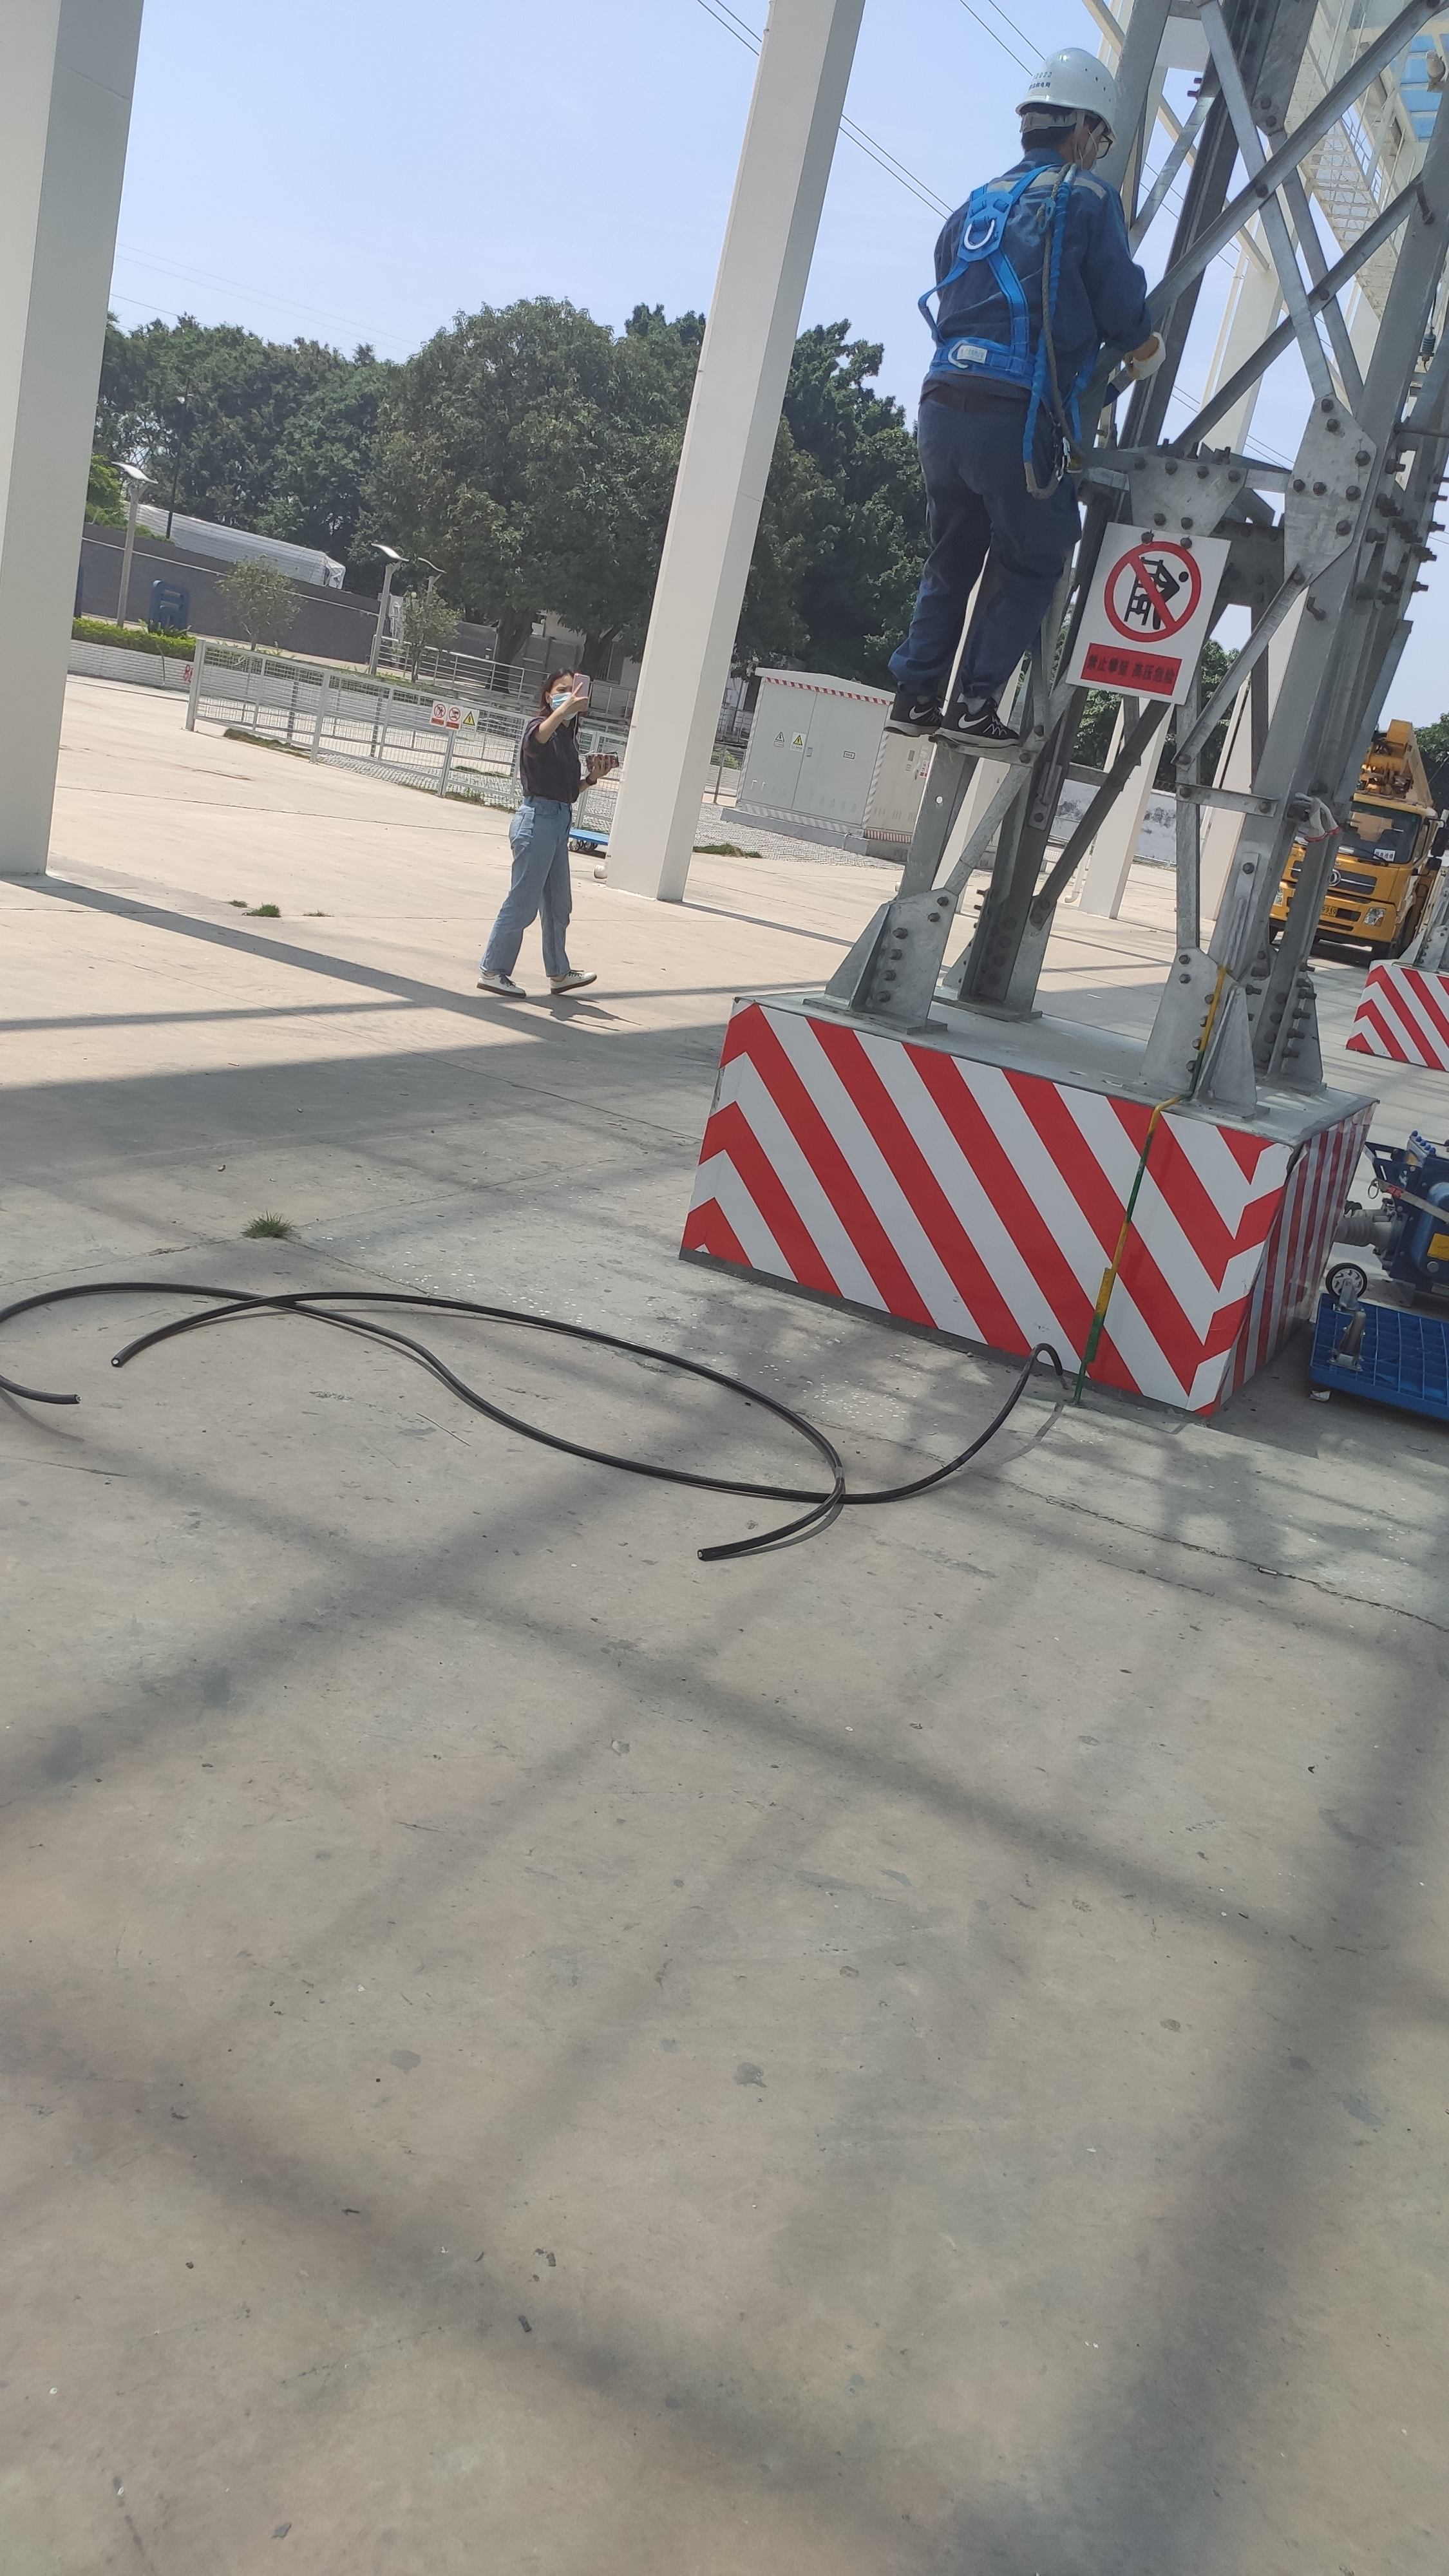downcloth: (482, 808, 580, 980)
downsuit: (898, 413, 1077, 706)
halt: (1014, 52, 1126, 174)
hand: (559, 682, 591, 718)
person: (880, 50, 1159, 744), (474, 661, 606, 1002)
safebelt: (889, 157, 1153, 532)
upcloth: (511, 715, 591, 805)
upsuit: (933, 165, 1137, 390)
wglove: (1132, 330, 1168, 383)
